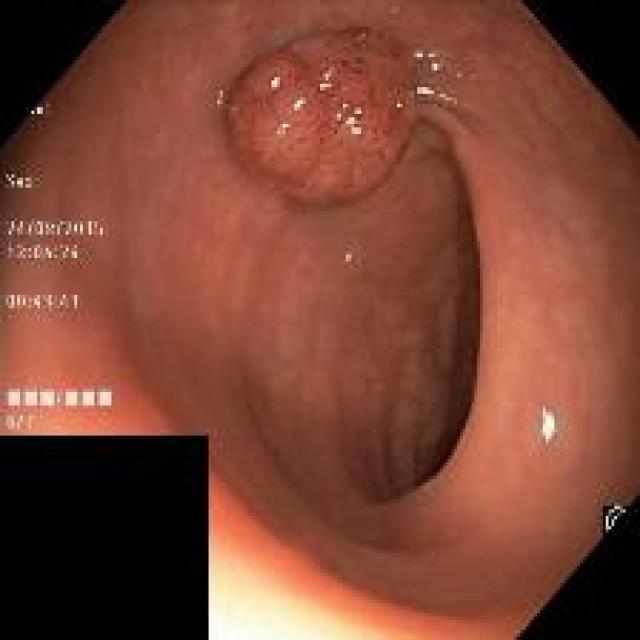Polyps: (226, 28, 440, 203)
